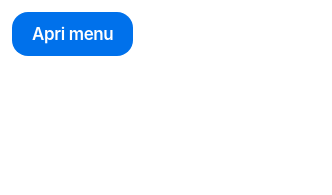
Test case: Menu, Picker, Popover, ContextMenu › Menu: ruoli, frecce, selezione, chiusura con Esc e focus restituito
Later steps or results of the test are not shown.
Click the button "Apri menu": (73, 34) [12,12,133,56]
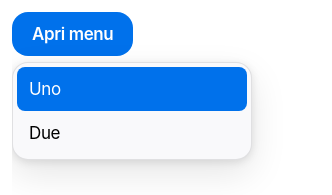
Expected: the menu named "Azioni" is shown, [17,67,247,155]
Press Arrowdown
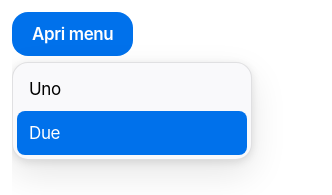
Press Enter
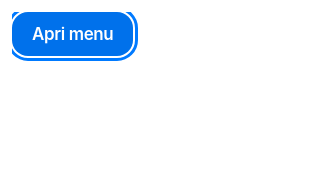
Expected: the menu is gone
Click the button "Apri menu": (73, 34) [12,12,133,56]
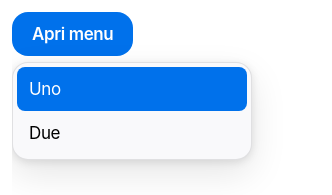
Expected: the menu is shown, [17,67,247,155]
